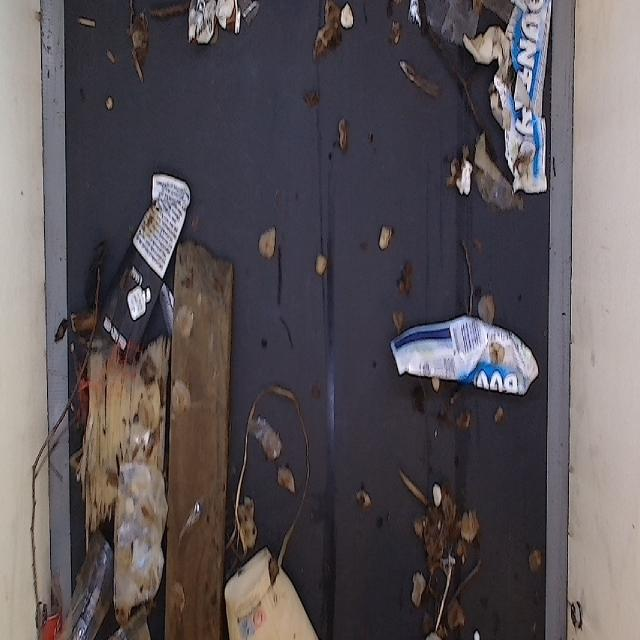food_packaging: (223, 554, 318, 640)
food_wrapping: (123, 152, 191, 344), (399, 316, 545, 402), (504, 0, 553, 201), (186, 0, 262, 41)
plastic_cups: (58, 524, 110, 640)
plastic_films: (110, 453, 176, 640)
